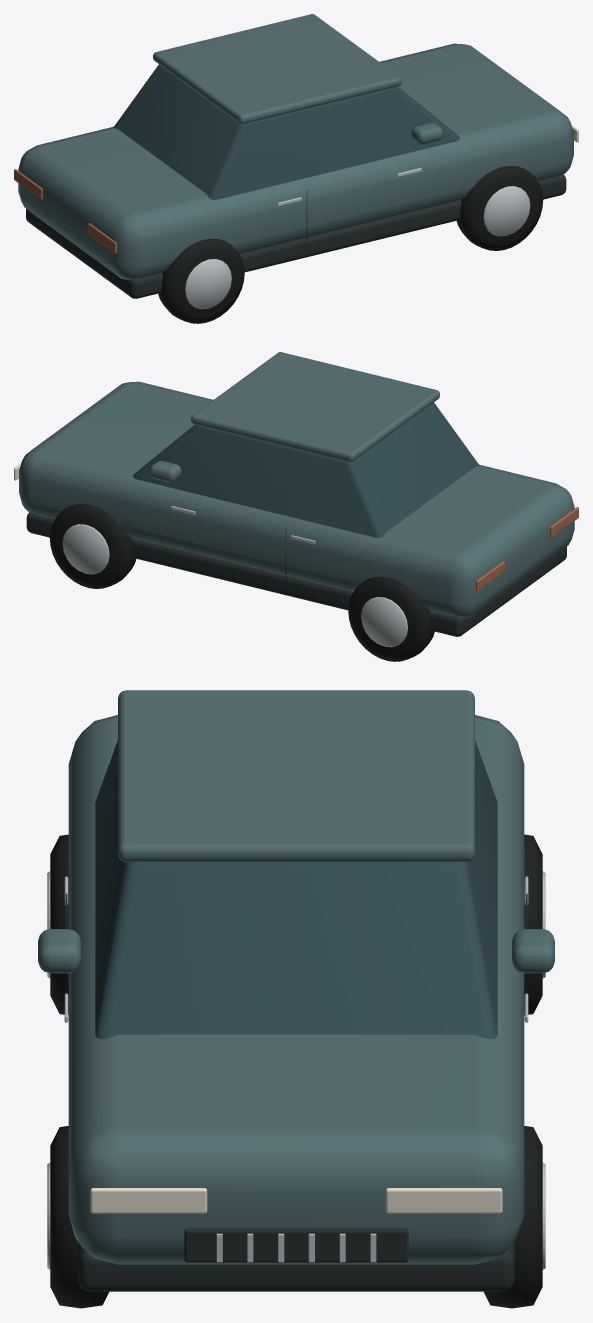
The model's file is atelier_car.glb.
3 renders of one model, top to bottom at view 1: azimuth 30°, elevation 25°; view 2: azimuth 150°, elevation 25°; view 3: azimuth 270°, elevation 25°, orthographic. The views are drawn at different scales.
Visible parts, largest first — view 1: atelier_car / Atelier / automotive enamel, atelier_car / Atelier / automotive smoked glass, atelier_car / Atelier / tyre rubber, atelier_car / Atelier / charcoal powder coat, atelier_car / Atelier / brushed nickel, atelier_car / Atelier / fired terracotta; view 2: atelier_car / Atelier / automotive enamel, atelier_car / Atelier / automotive smoked glass, atelier_car / Atelier / tyre rubber, atelier_car / Atelier / charcoal powder coat, atelier_car / Atelier / brushed nickel, atelier_car / Atelier / fired terracotta; view 3: atelier_car / Atelier / automotive enamel, atelier_car / Atelier / automotive smoked glass, atelier_car / Atelier / charcoal powder coat, atelier_car / Atelier / tyre rubber, atelier_car / Atelier / ivory porcelain, atelier_car / Atelier / brushed nickel.
Boxes of the visible parts, bbox=[...] form: atelier_car / Atelier / automotive enamel: bbox=[18, 14, 573, 280]; atelier_car / Atelier / automotive smoked glass: bbox=[113, 64, 459, 199]; atelier_car / Atelier / tyre rubber: bbox=[158, 165, 543, 323]; atelier_car / Atelier / charcoal powder coat: bbox=[26, 174, 566, 298]; atelier_car / Atelier / brushed nickel: bbox=[185, 168, 530, 309]; atelier_car / Atelier / fired terracotta: bbox=[14, 169, 117, 253]; atelier_car / Atelier / automotive enamel: bbox=[19, 352, 574, 618]; atelier_car / Atelier / automotive smoked glass: bbox=[133, 402, 479, 537]; atelier_car / Atelier / tyre rubber: bbox=[49, 503, 434, 661]; atelier_car / Atelier / charcoal powder coat: bbox=[26, 512, 566, 636]; atelier_car / Atelier / brushed nickel: bbox=[62, 506, 407, 647]; atelier_car / Atelier / fired terracotta: bbox=[475, 507, 578, 591]; atelier_car / Atelier / automotive enamel: bbox=[38, 690, 554, 1264]; atelier_car / Atelier / automotive smoked glass: bbox=[95, 740, 497, 1039]; atelier_car / Atelier / charcoal powder coat: bbox=[65, 893, 527, 1291]; atelier_car / Atelier / tyre rubber: bbox=[50, 834, 542, 1308]; atelier_car / Atelier / ivory porcelain: bbox=[90, 1188, 502, 1213]; atelier_car / Atelier / brushed nickel: bbox=[47, 871, 545, 1269].
Bounding box in the file's own units: 3.49 × 1.32 × 1.68.
